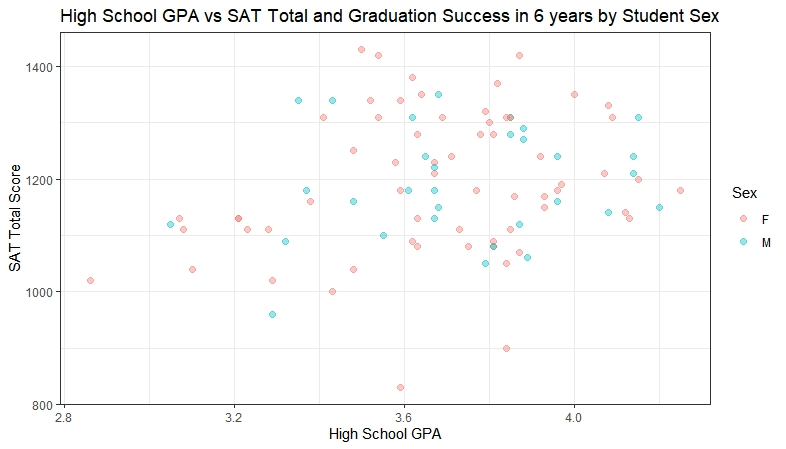

What the dashboard file says about the page in this screenshot:
{"tool":"tableau","page":{"name":"Dashboard 1","canvas":[800,500],"ordinal":0},"visuals":[{"type":"worksheet","title":"Sheet 1","mark":"Automatic","rows":["A","B"],"cols":["Agree (copy)_1437492741480001537","Calculation_1437492741479895040"],"box":[8,8,784,484]},{"type":"legend","title":"Sheet 1","param":"[federated.05f93y21k277er1e6bovs163s65s].[:Measure Names]","box":[223,61,336,34]}]}

Visuals, with their boxes on the page's 800x500 design canvas (x1, y1, x2, y2). These are canvas units, not pixel positions in the 786x449 screenshot, which may show the page scaled, cropped or inside an application window:
"Sheet 1" worksheet: {"x1": 8, "y1": 8, "x2": 792, "y2": 492}
"Sheet 1" legend: {"x1": 223, "y1": 61, "x2": 559, "y2": 95}
